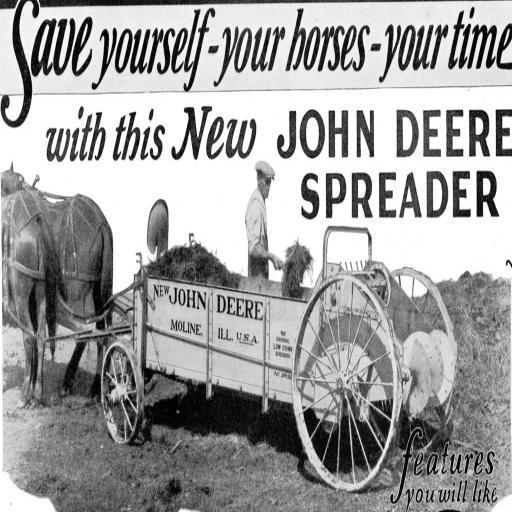horse: (10, 162, 114, 408), (0, 182, 61, 414)
